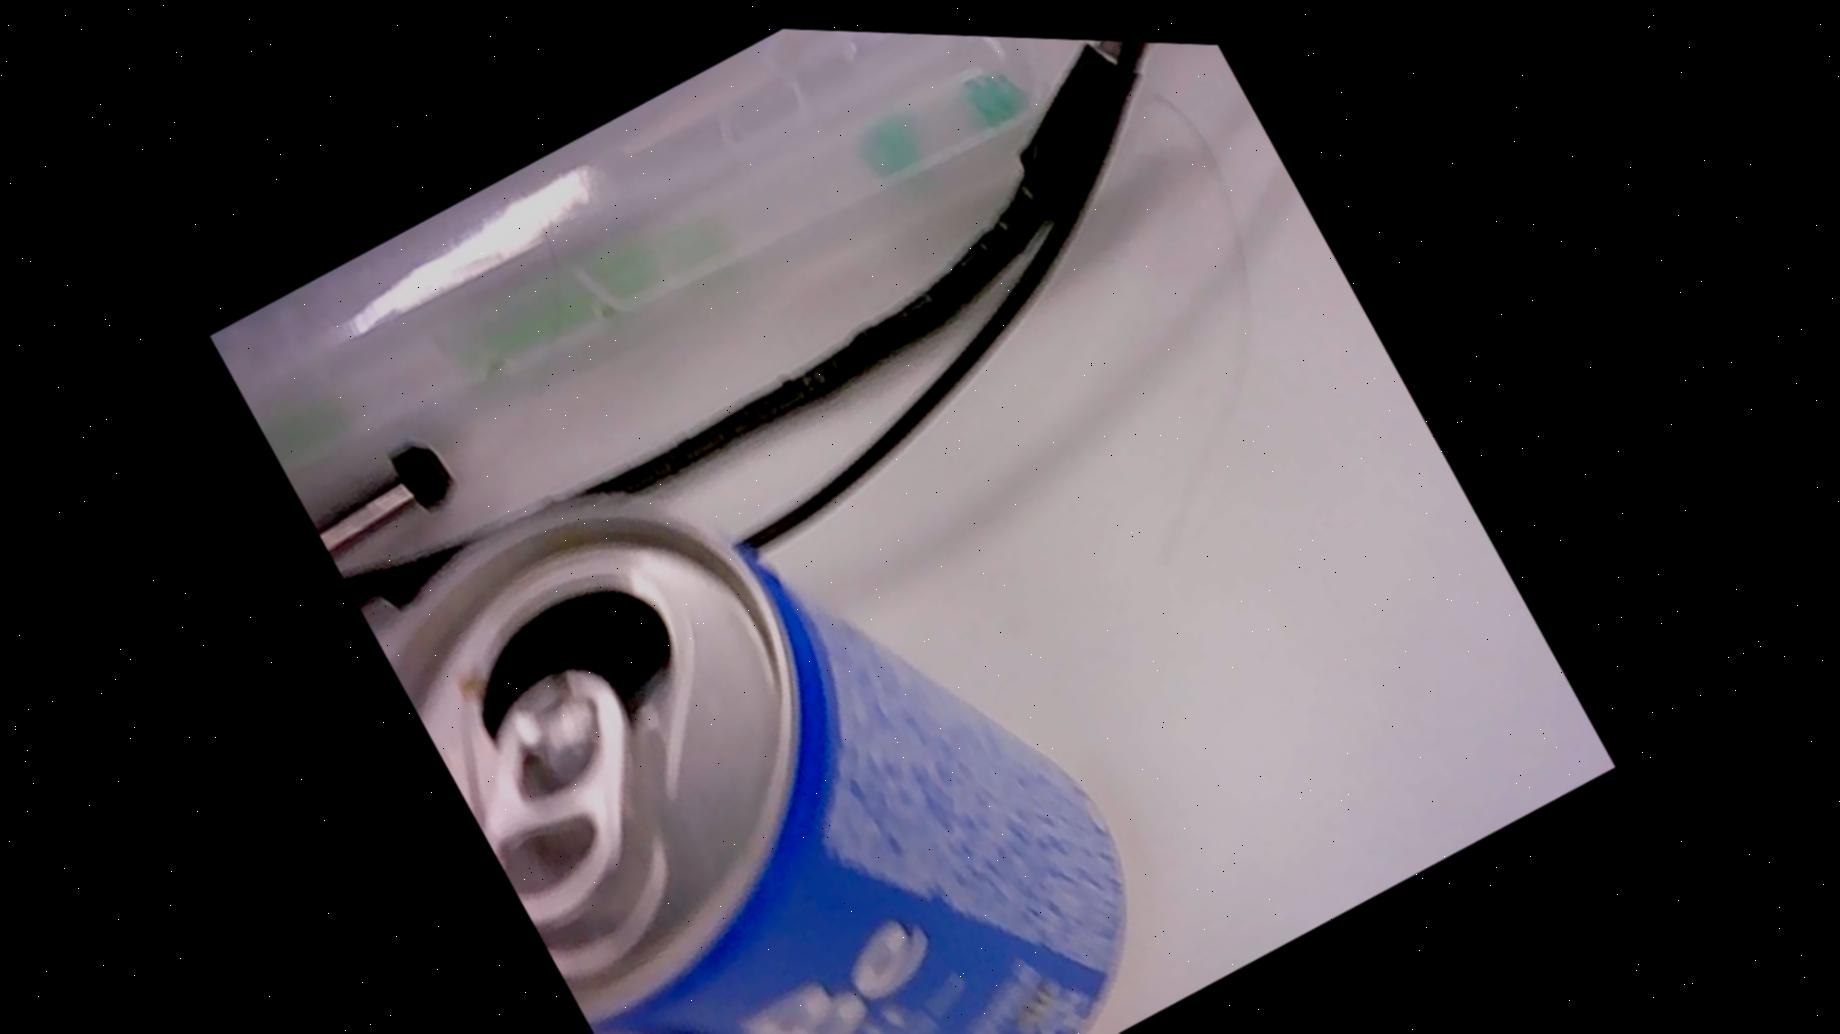letsbe: (354, 322, 1212, 1034)
